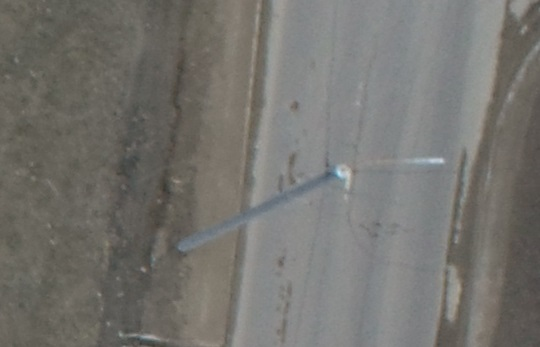opora: (175, 157, 445, 252)
